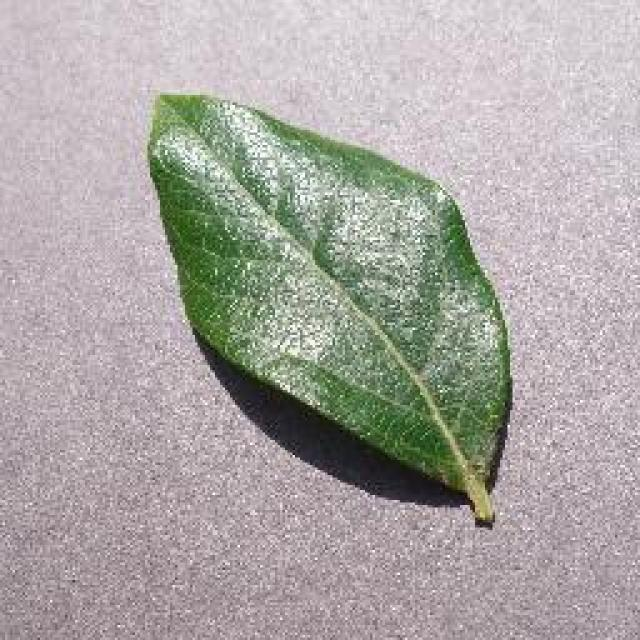Blu_healthy: (177, 112, 468, 424)
